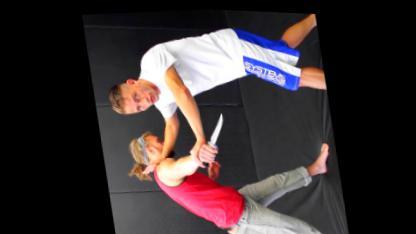knife: (190, 106, 232, 169)
